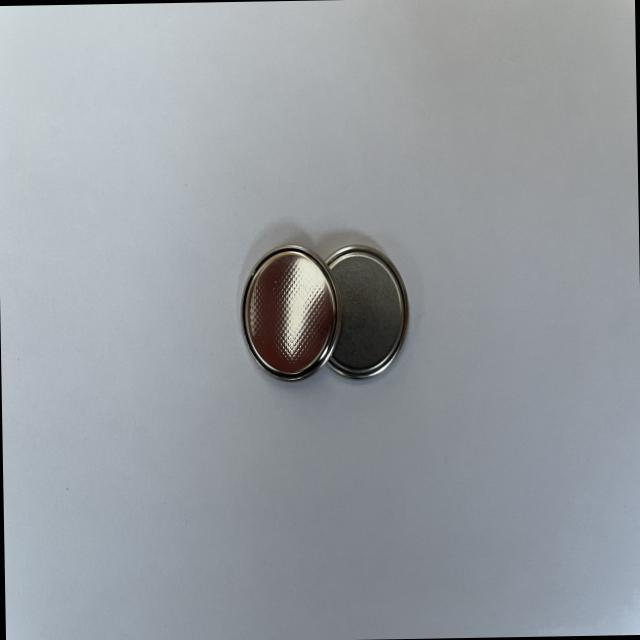COIN: (238, 244, 340, 382), (321, 242, 410, 381)
